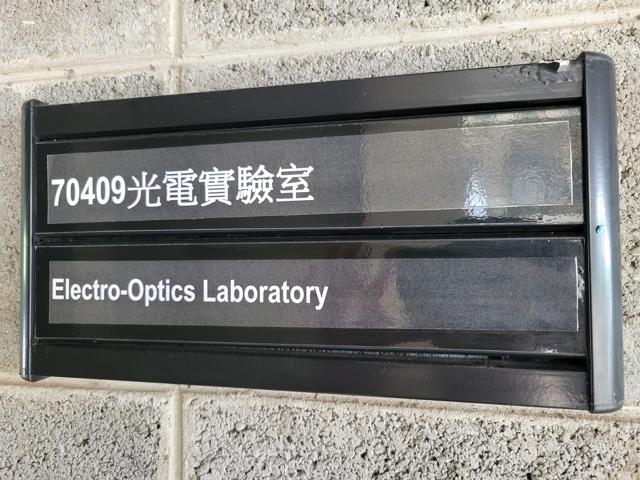doorplate: (8, 41, 633, 419)
